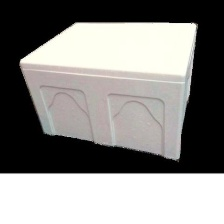foam_box: (14, 15, 204, 166)
